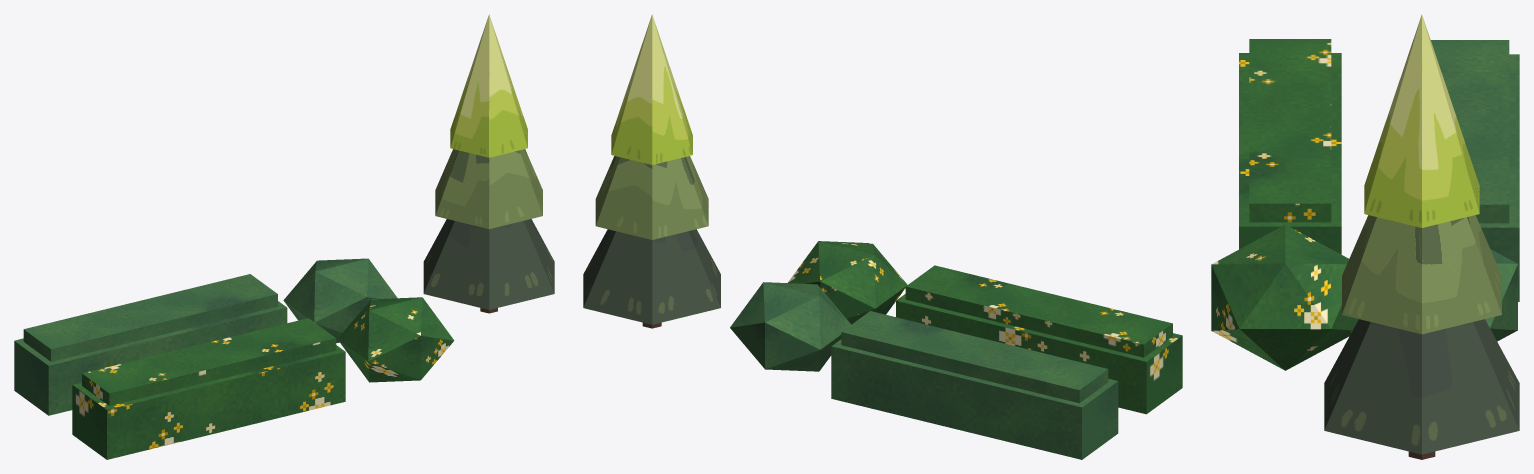
Rendered from Vegetacion.fbx.
3 views of the same model, side by side, from view 1: azimuth 30°, elevation 25°; view 2: azimuth 150°, elevation 25°; view 3: azimuth 270°, elevation 25° (orthographic). The views are drawn at different scales.
Visible parts, largest first — view 1: ArbustoC24, Arbol4, ArbustoC23, Arbusto1, Arbusto2; view 2: ArbustoC23, Arbol4, ArbustoC24, Arbusto2, Arbusto1; view 3: Arbol4, ArbustoC24, Arbusto1, ArbustoC23, Arbusto2.
Boxes of the visible parts, box(x1,y1,x2,y2) form: ArbustoC24: box(72, 318, 345, 459); Arbol4: box(423, 14, 554, 313); ArbustoC23: box(14, 274, 287, 415); Arbusto1: box(337, 297, 454, 382); Arbusto2: box(283, 258, 397, 342); ArbustoC23: box(831, 311, 1118, 459); Arbol4: box(583, 14, 720, 328); ArbustoC24: box(896, 265, 1182, 414); Arbusto2: box(730, 282, 851, 371); Arbusto1: box(788, 241, 907, 324); Arbol4: box(1324, 14, 1519, 459); ArbustoC24: box(1239, 39, 1341, 254); Arbusto1: box(1211, 224, 1358, 370); ArbustoC23: box(1431, 40, 1519, 301); Arbusto2: box(1485, 249, 1517, 341).
Size of the model in its own units: 8.67 by 4.8 by 3.05.
